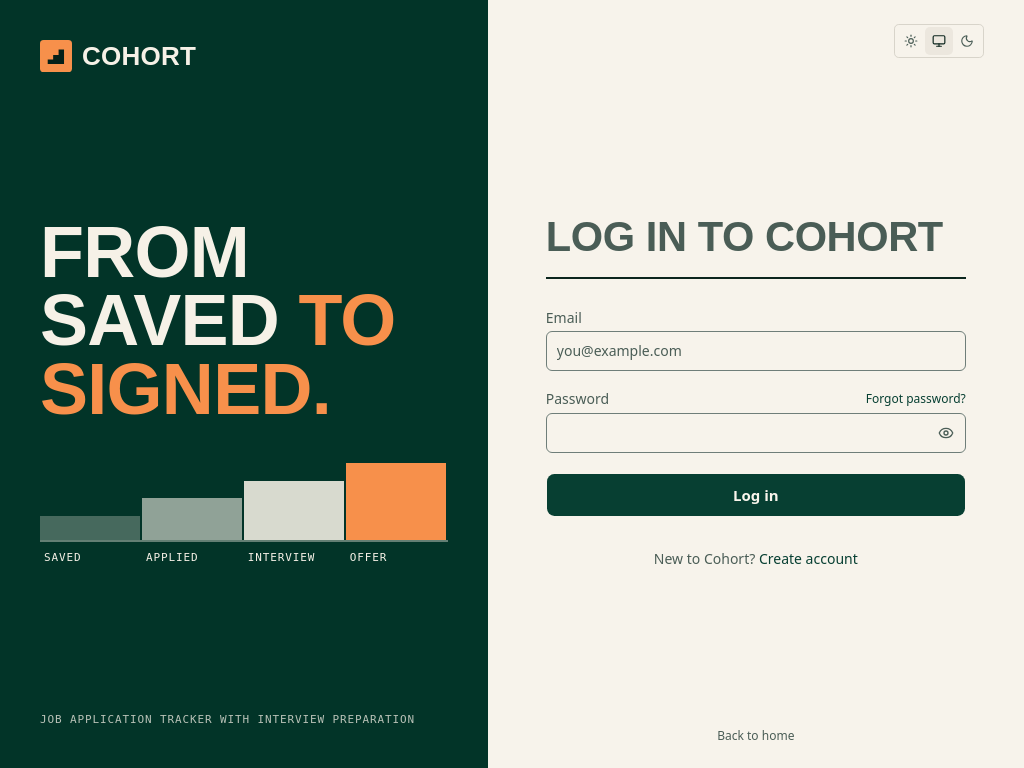
Scenario: LoginPage › shows a generic 401 error without confirming whether the account exists
This screenshot has width=1024, height=768.
Step 1. Type "jane@example.com" into the field labelled "Email" → (756, 351), box [546,331,966,371]
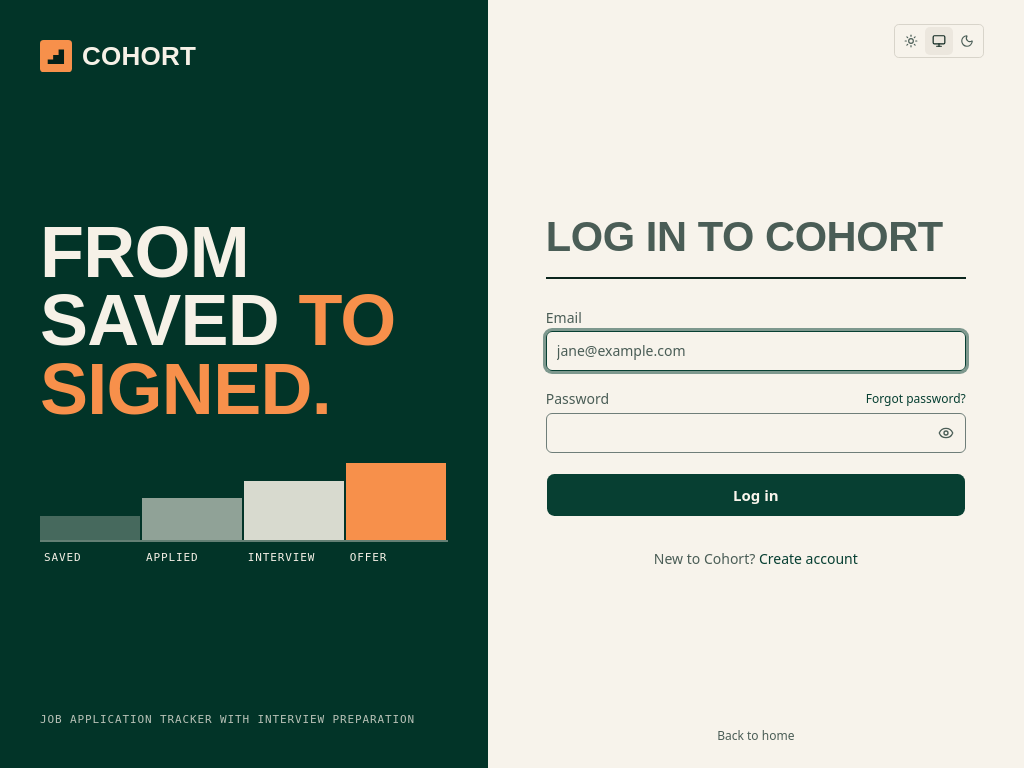
Step 2. Type "wrongpassword" into the password field labelled "Password" → (756, 433), box [546,413,966,453]
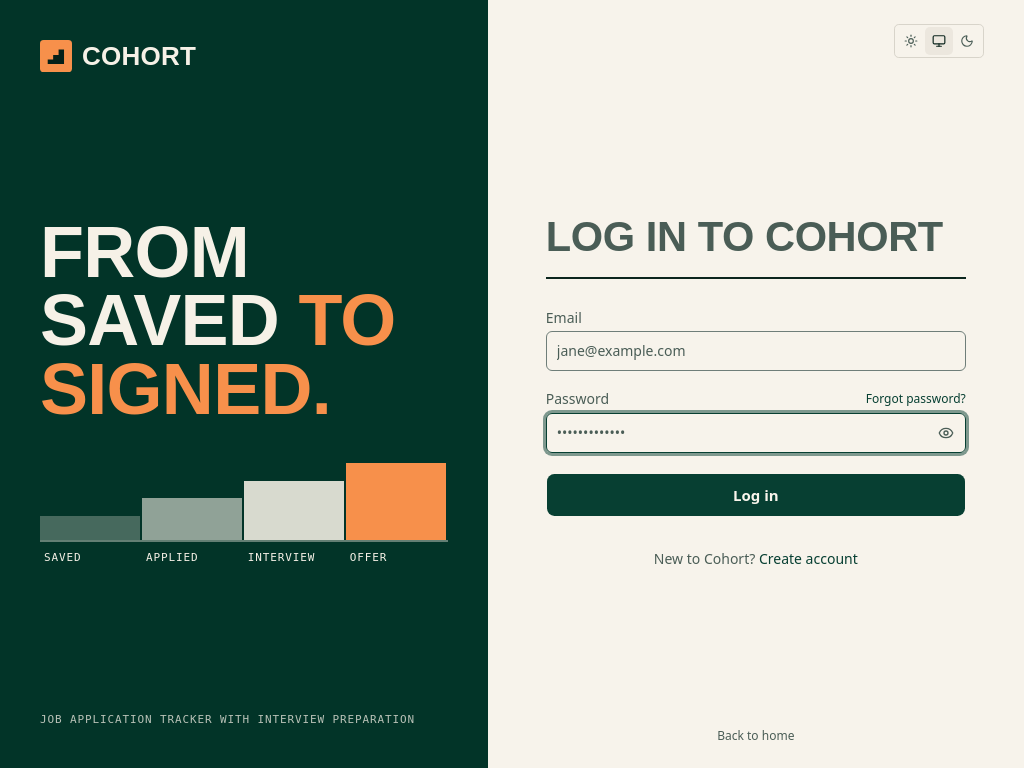
Step 3. Click the button "Log in" → (756, 495), box [546,473,966,517]
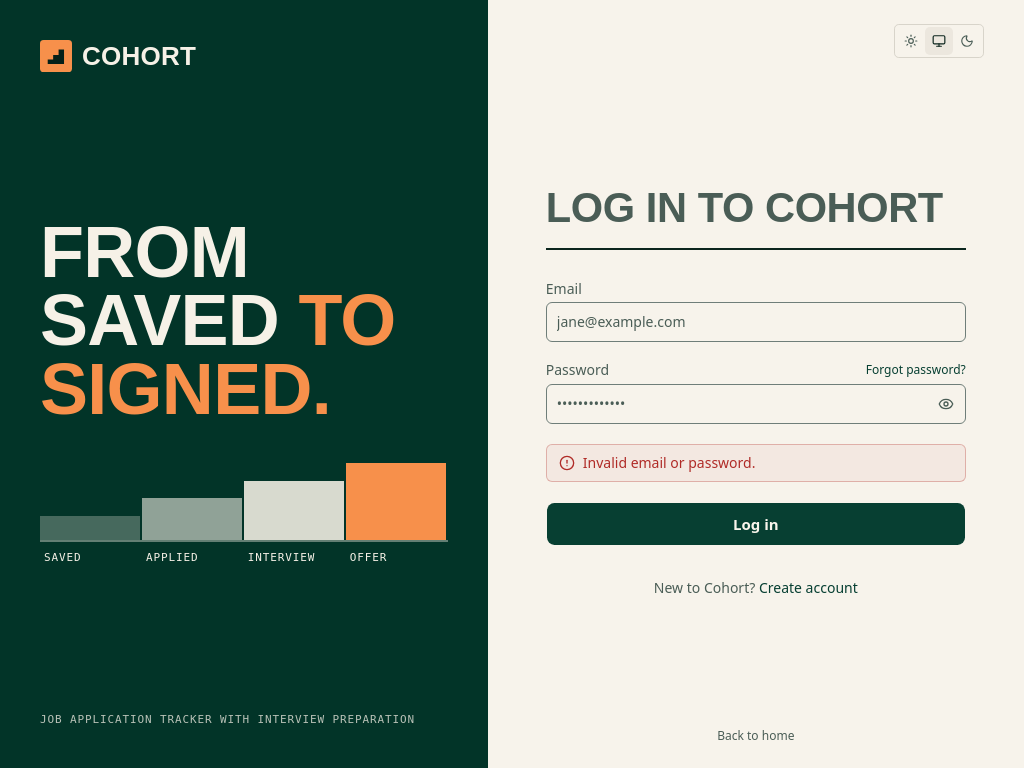
Expected: the message reads "Invalid email or password.", [583,453,756,472]
